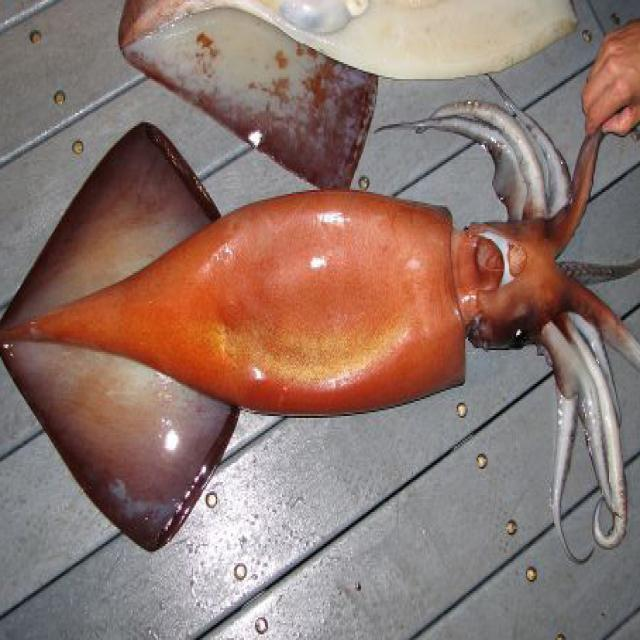SQUID: (0, 38, 640, 561)
